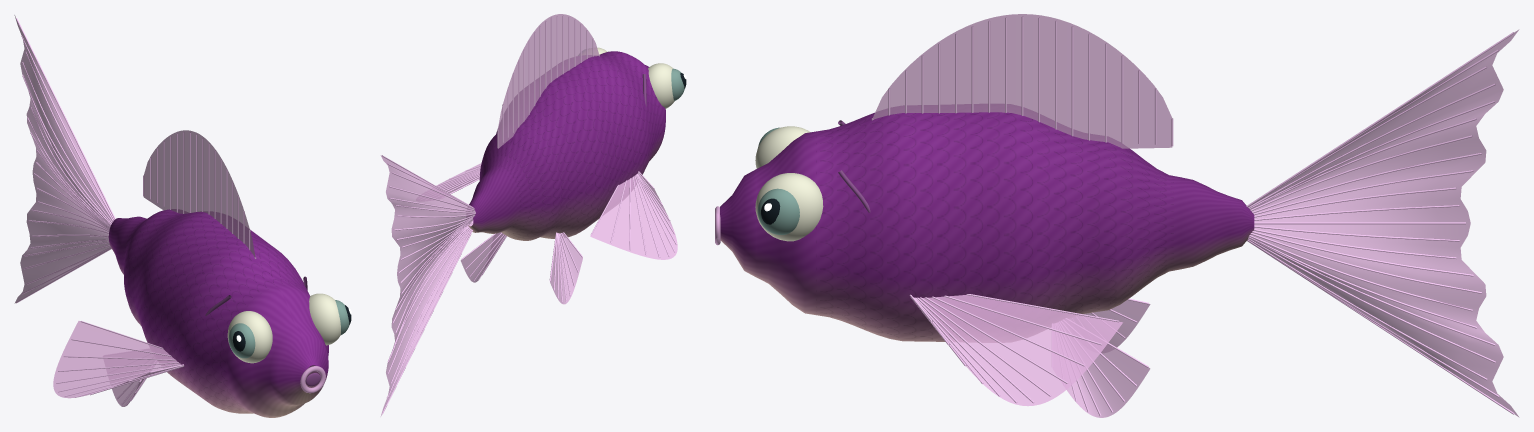
The model's file is orchid-v2.glb.
3 views of the same model, side by side, from view 1: azimuth 30°, elevation 25°; view 2: azimuth 150°, elevation 25°; view 3: azimuth 270°, elevation 25° (orthographic). The views are drawn at different scales.
Parts seen in each view (by area): view 1: Body, TailPivot membrane, DorsalPivot membrane, PectoralPivot-1 membrane, Eye sclera.001, Eye sclera, Iris, TailPivot ray.022, VentralPivot-1 membrane, Mouth rim, TailPivot ray.021, TailPivot ray.020 (+2 smaller); view 2: Body, TailPivot membrane, DorsalPivot membrane, PectoralPivot-1 membrane, VentralPivot-1 membrane, VentralPivot1 membrane, Eye sclera, PectoralPivot1 membrane, TailPivot ray, TailPivot ray.001, Iris, TailPivot ray.002; view 3: Body, TailPivot membrane, DorsalPivot membrane, PectoralPivot1 membrane, VentralPivot1 membrane, Eye sclera.001, Iris.001, VentralPivot-1 membrane, Eye sclera, TailPivot ray.022.
Boxes of the visible parts, bbox=[...] form: Body: bbox=[108, 209, 328, 417]; TailPivot membrane: bbox=[14, 15, 112, 303]; DorsalPivot membrane: bbox=[143, 130, 255, 256]; PectoralPivot-1 membrane: bbox=[53, 321, 179, 398]; Eye sclera.001: bbox=[309, 293, 340, 345]; Eye sclera: bbox=[227, 311, 272, 363]; Iris: bbox=[228, 323, 255, 358]; TailPivot ray.022: bbox=[16, 18, 115, 219]; VentralPivot-1 membrane: bbox=[112, 379, 144, 406]; Mouth rim: bbox=[300, 366, 325, 393]; TailPivot ray.021: bbox=[21, 35, 114, 220]; TailPivot ray.020: bbox=[25, 51, 113, 221]; Body: bbox=[467, 51, 665, 240]; TailPivot membrane: bbox=[380, 155, 475, 416]; DorsalPivot membrane: bbox=[498, 14, 599, 148]; PectoralPivot-1 membrane: bbox=[590, 174, 677, 259]; VentralPivot-1 membrane: bbox=[550, 233, 582, 304]; VentralPivot1 membrane: bbox=[460, 232, 505, 282]; Eye sclera: bbox=[648, 63, 674, 108]; PectoralPivot1 membrane: bbox=[437, 163, 481, 193]; TailPivot ray: bbox=[382, 229, 472, 414]; TailPivot ray.001: bbox=[387, 229, 471, 398]; Iris: bbox=[671, 68, 684, 100]; TailPivot ray.002: bbox=[391, 228, 470, 383]; Body: bbox=[720, 104, 1254, 342]; TailPivot membrane: bbox=[1249, 29, 1519, 417]; DorsalPivot membrane: bbox=[872, 14, 1172, 148]; PectoralPivot1 membrane: bbox=[919, 295, 1122, 406]; VentralPivot1 membrane: bbox=[1066, 344, 1150, 417]; Eye sclera.001: bbox=[755, 173, 823, 241]; Iris.001: bbox=[757, 188, 799, 234]; VentralPivot-1 membrane: bbox=[1084, 300, 1150, 347]; Eye sclera: bbox=[755, 126, 810, 168]; TailPivot ray.022: bbox=[1246, 32, 1513, 207].
Size of the model in its own units: 1.59 by 1.64 by 2.95.
Materials: 9 (1 with a texture image).
